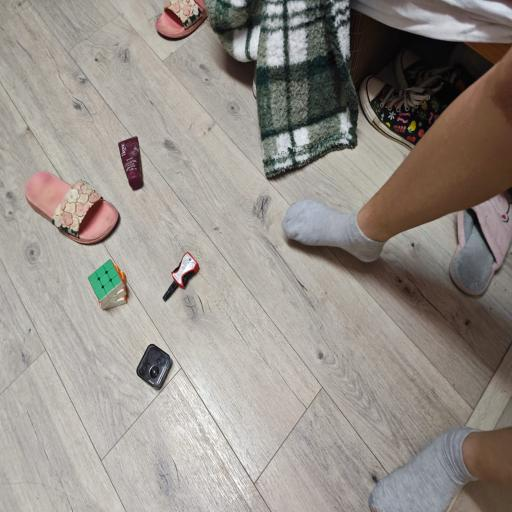Hand Cream: (116, 135, 146, 188)
Rubiks Cube: (86, 260, 128, 308)
Super Glue: (160, 250, 198, 300)
